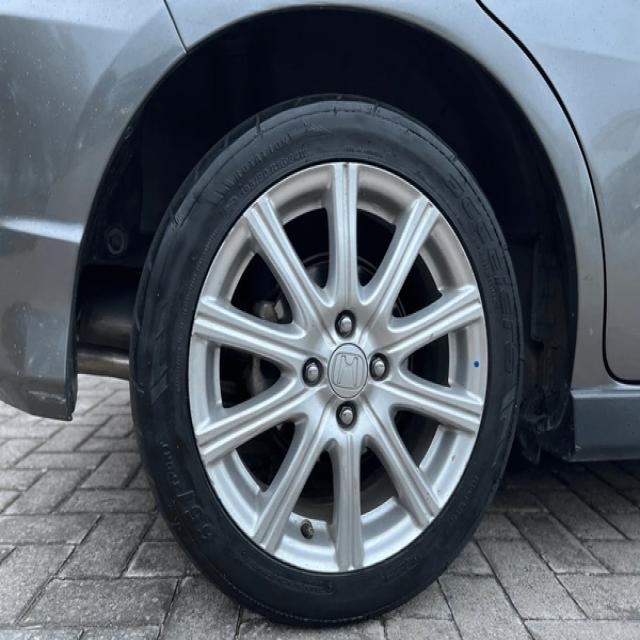honda: (334, 352, 364, 396)
